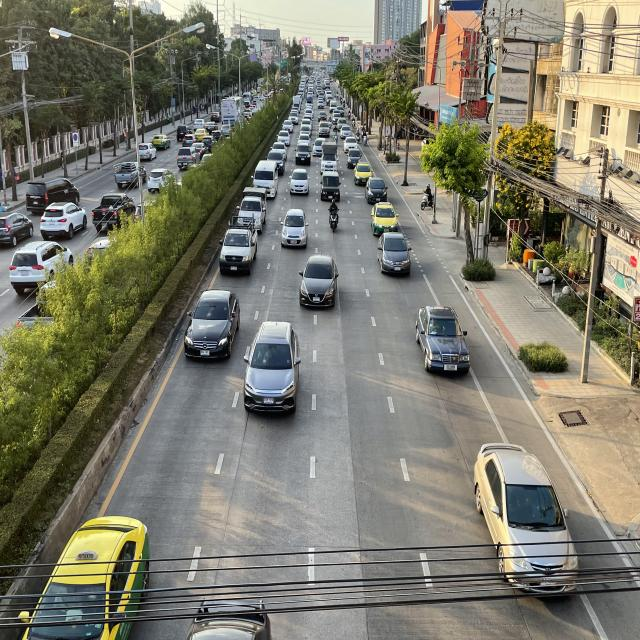bike: (328, 197, 340, 234)
car: (472, 436, 582, 598), (15, 513, 148, 640), (240, 320, 306, 418), (413, 300, 472, 378), (182, 288, 240, 364), (297, 251, 341, 312), (375, 230, 413, 280)
truck: (219, 214, 258, 277), (236, 187, 268, 234)
